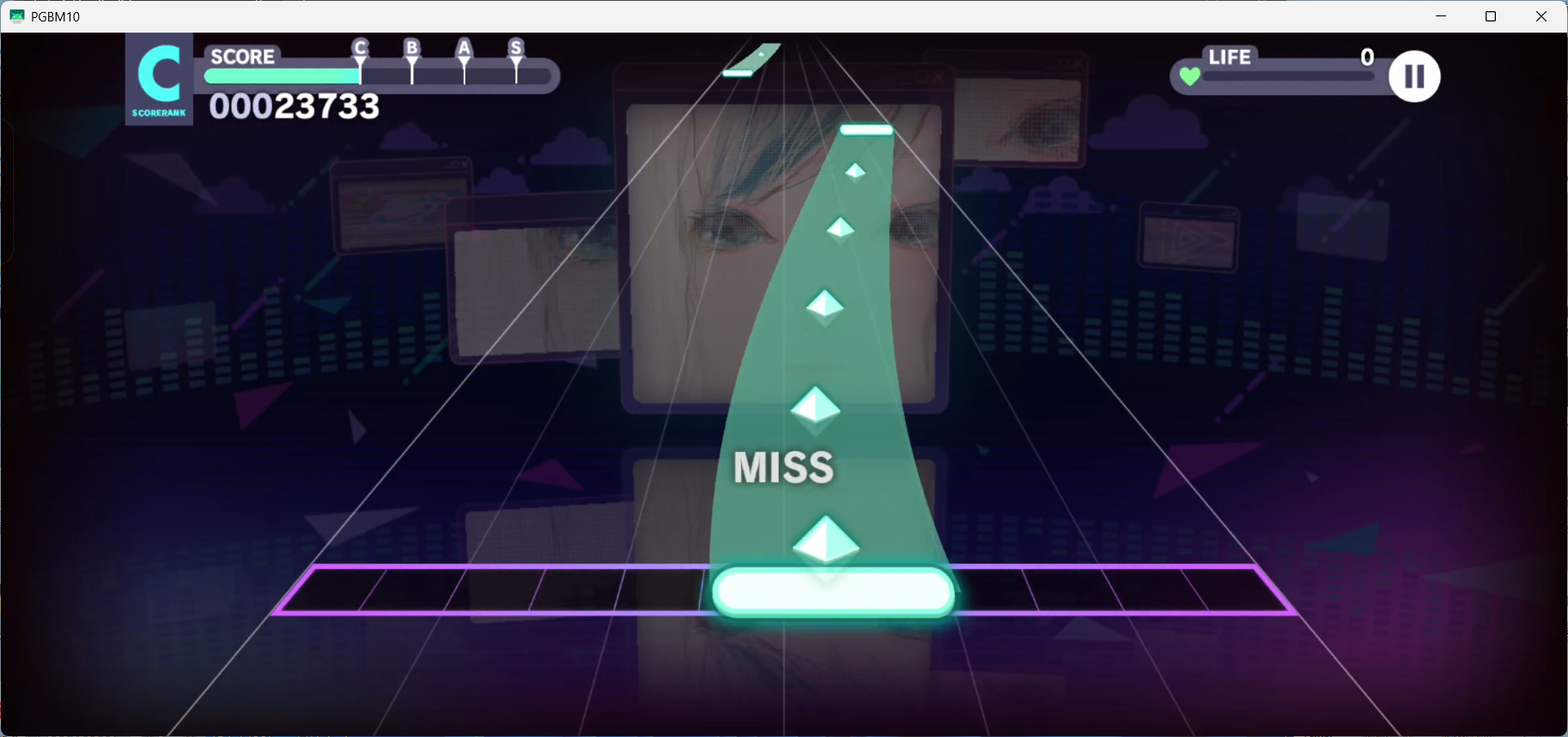hold: (708, 135, 950, 566), (728, 44, 781, 69)
sweep: (792, 516, 860, 587), (787, 385, 842, 436), (806, 290, 844, 329), (826, 216, 855, 246), (845, 162, 866, 184), (757, 51, 764, 57)
tap: (711, 567, 957, 619), (840, 124, 893, 136), (723, 69, 752, 77)
